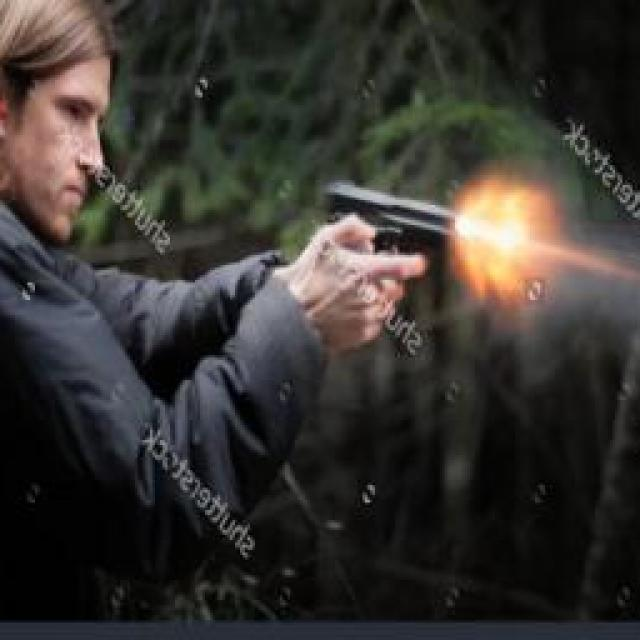pistol: (322, 183, 462, 275)
